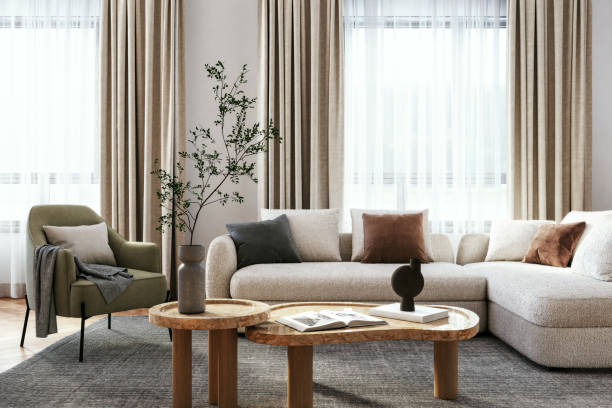chair: (18, 202, 172, 365)
flower vase: (155, 54, 284, 316)
sofa: (204, 203, 612, 377)
table: (247, 296, 480, 397), (153, 296, 268, 396)
